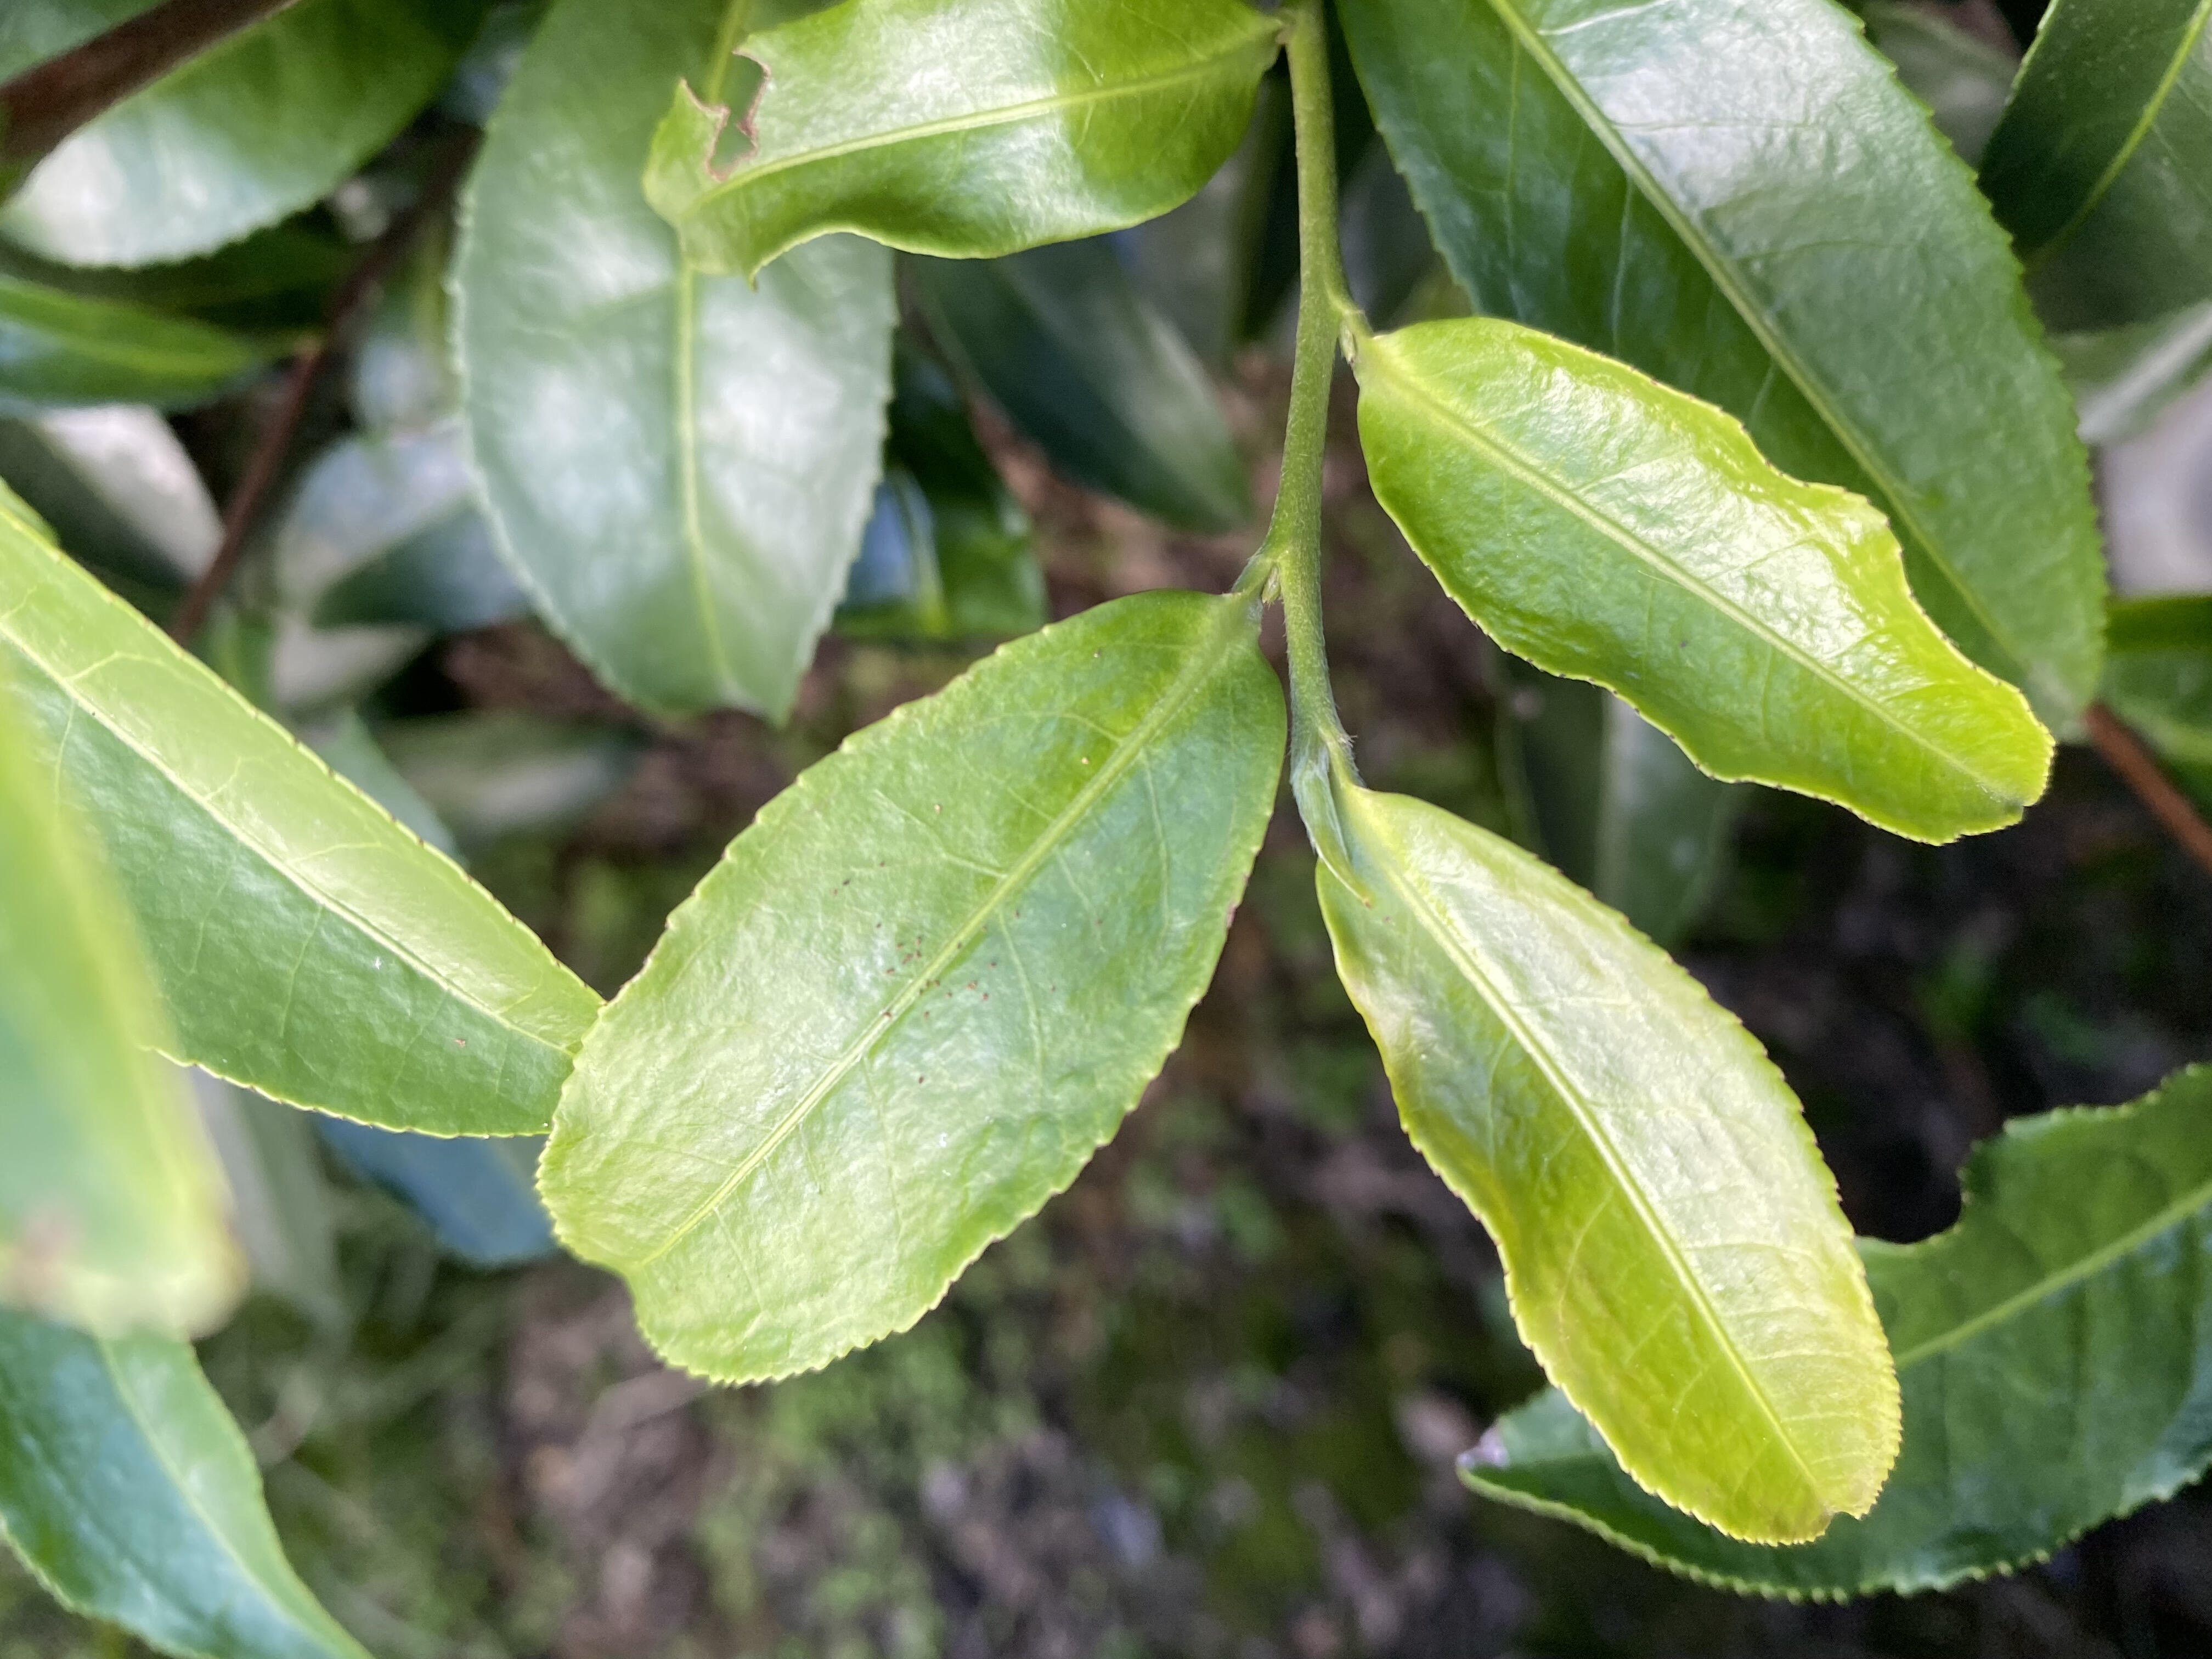chihuo_low: (639, 3, 1278, 293)
healthy: (533, 586, 1285, 1387), (1313, 791, 1904, 1547), (1350, 315, 2057, 850)
